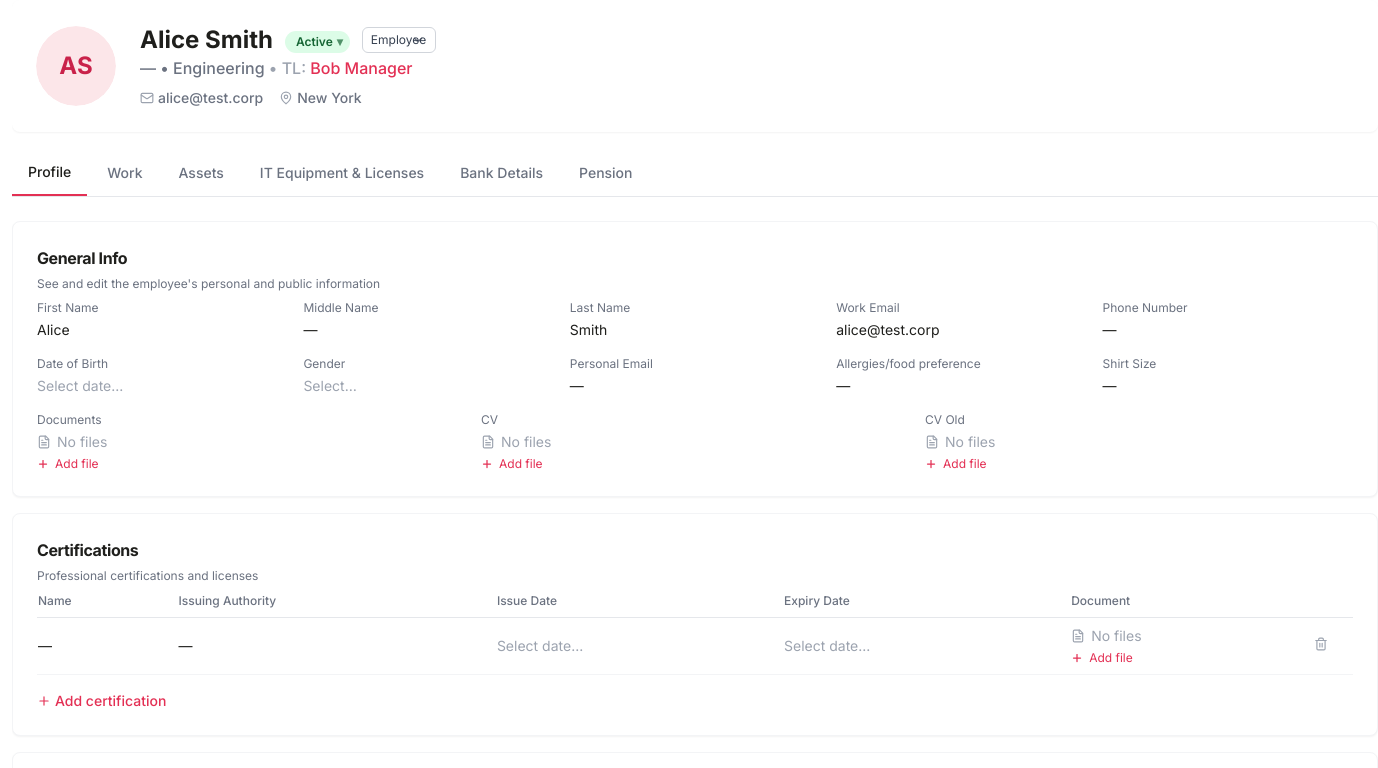
Test: Employee profile page › Role section shows Group Leader (GL) derived from TL manager
Click the tab "Work": click(125, 176) [91,157,158,195]
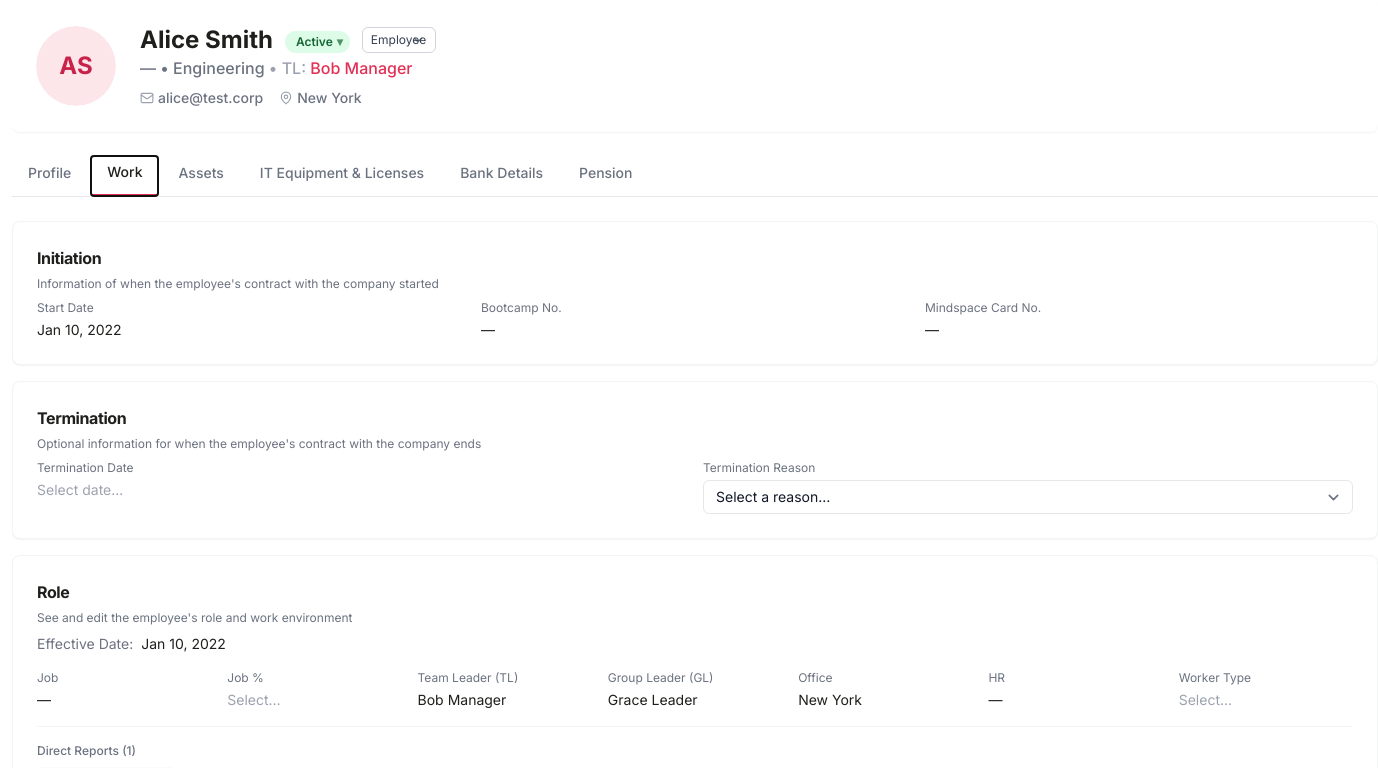
Expected: the text "Group Leader (GL)" is shown, [608,670,714,685]
Expected: the text "Grace Leader" is shown, [608,691,698,708]
